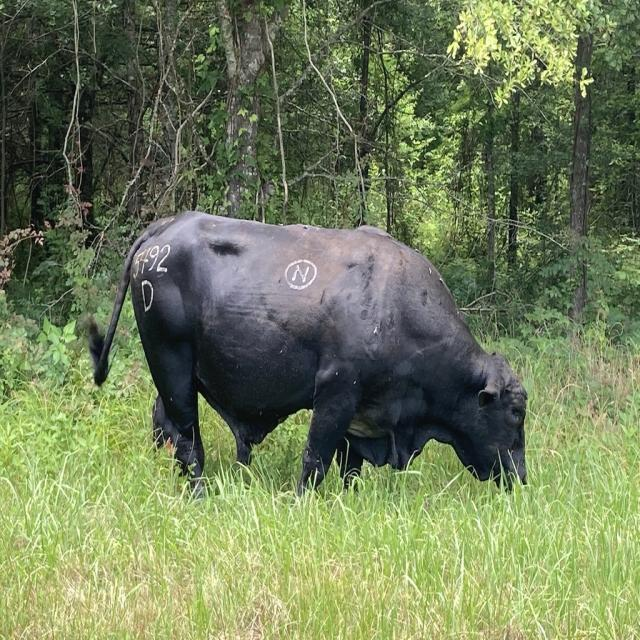cow: (89, 212, 526, 492)
